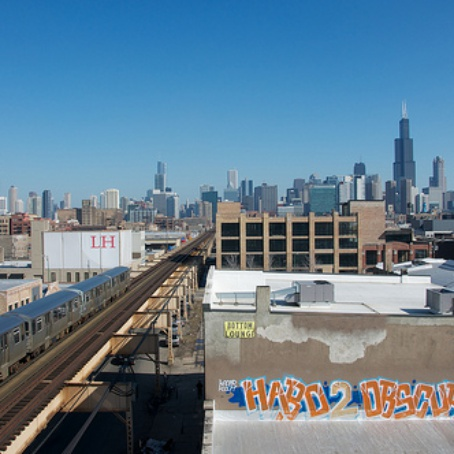building: (213, 272, 454, 454), (217, 209, 382, 281), (43, 223, 151, 276), (392, 119, 421, 213), (144, 156, 174, 215), (304, 179, 338, 213), (222, 165, 242, 213), (97, 184, 123, 211), (259, 183, 281, 211)
sky: (11, 1, 454, 192)
train: (1, 265, 132, 373)
train track: (1, 242, 205, 451)
